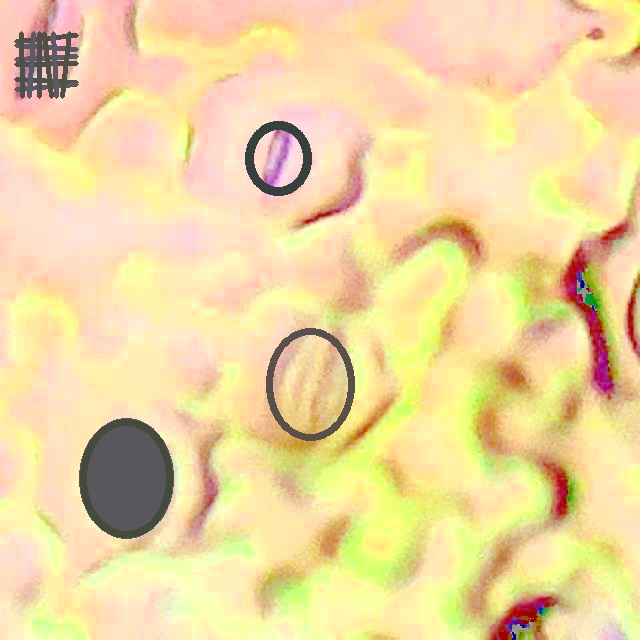close: (267, 329, 353, 440)
open: (79, 417, 174, 539), (244, 121, 312, 196), (14, 31, 78, 98)
